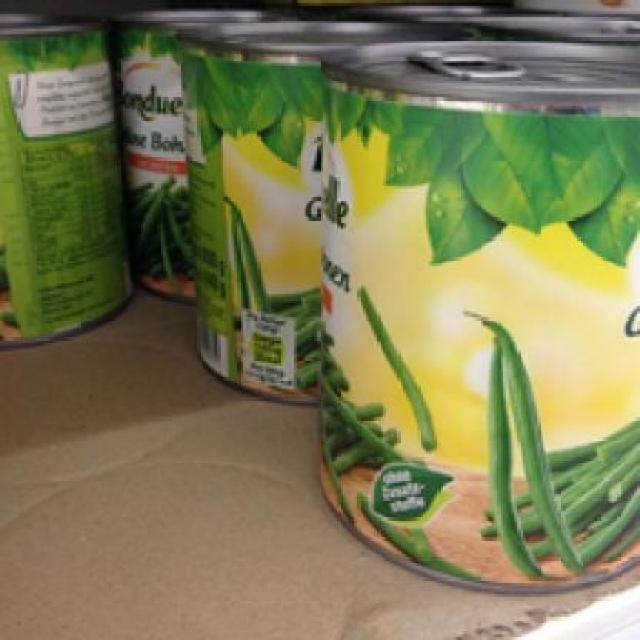Beans: (314, 43, 637, 566), (174, 12, 366, 414)
